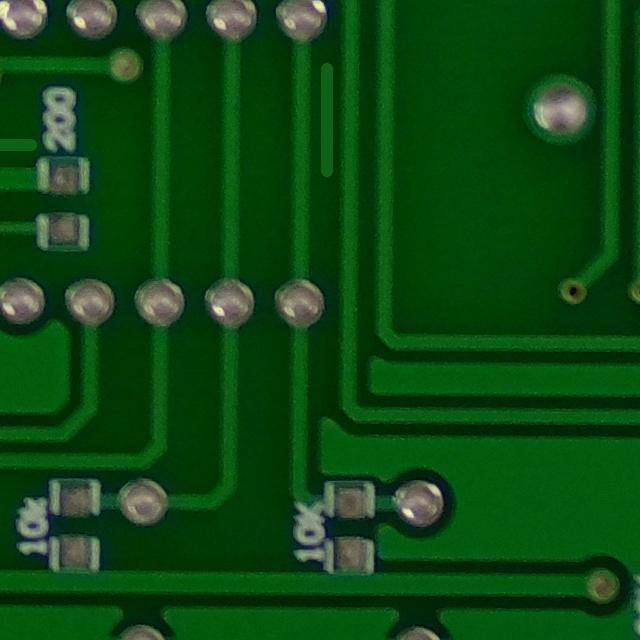spurious_copper: (302, 48, 359, 189), (0, 122, 47, 173)
